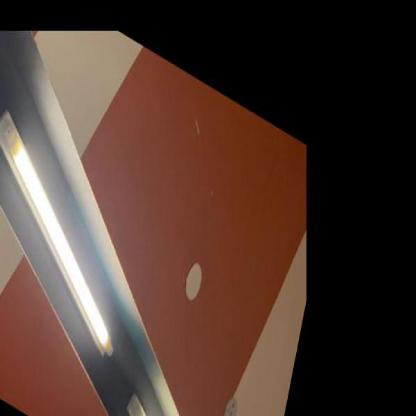light_on: (0, 86, 151, 367), (113, 379, 209, 415)
